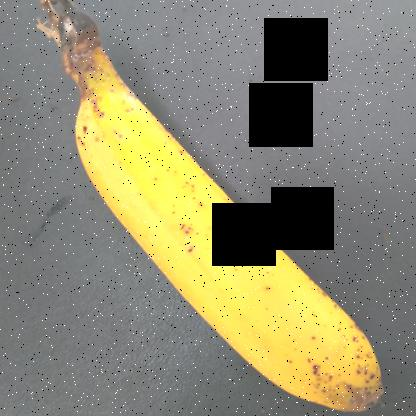ripe: (83, 72, 380, 402)
